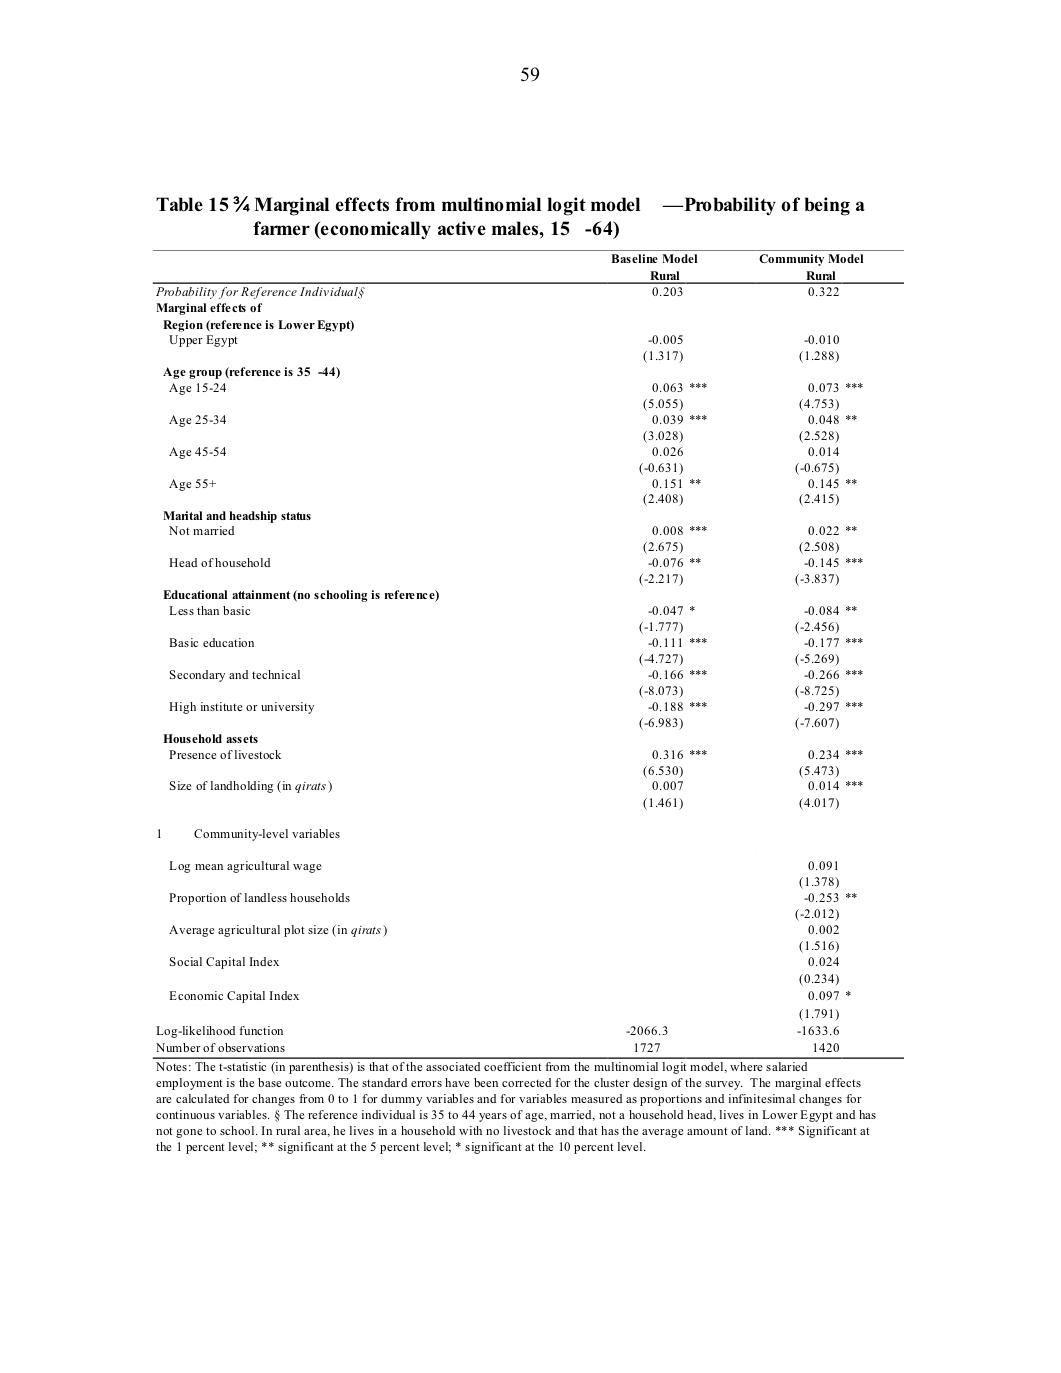Table: (152, 250, 903, 1058)
